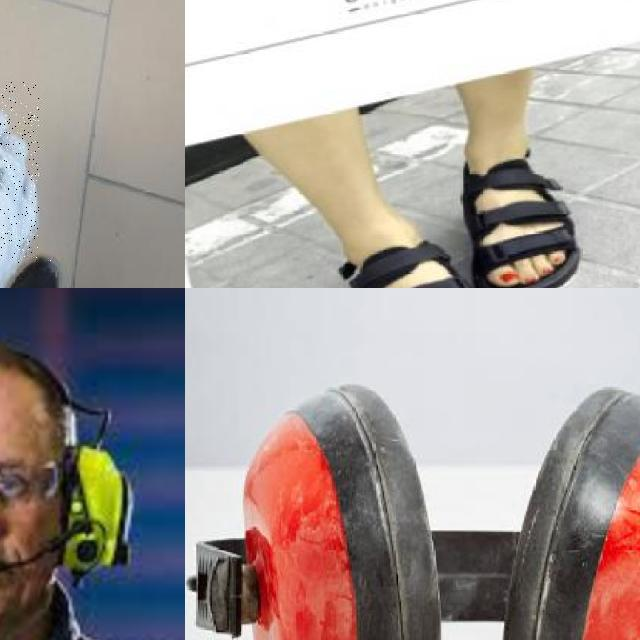Ear-protection: (204, 349, 640, 640), (0, 341, 136, 640)
Sandals: (452, 150, 586, 288), (334, 230, 522, 288)
